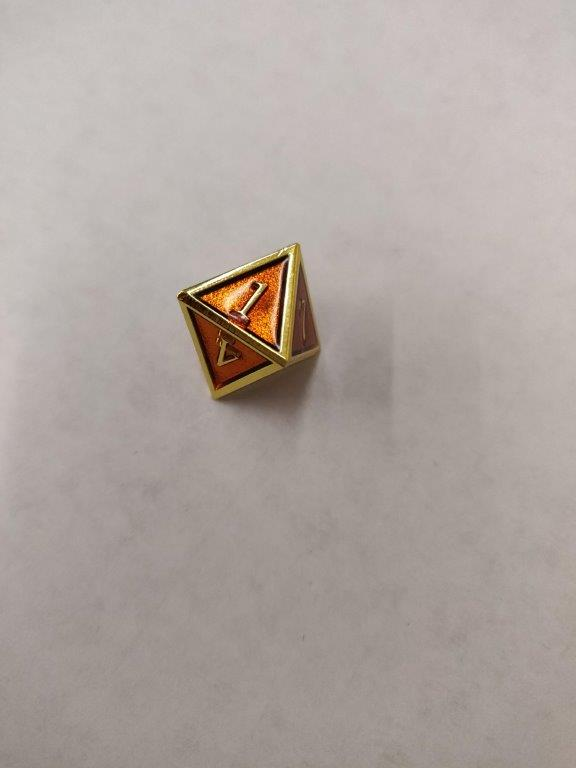d8-1: (175, 239, 321, 403)
